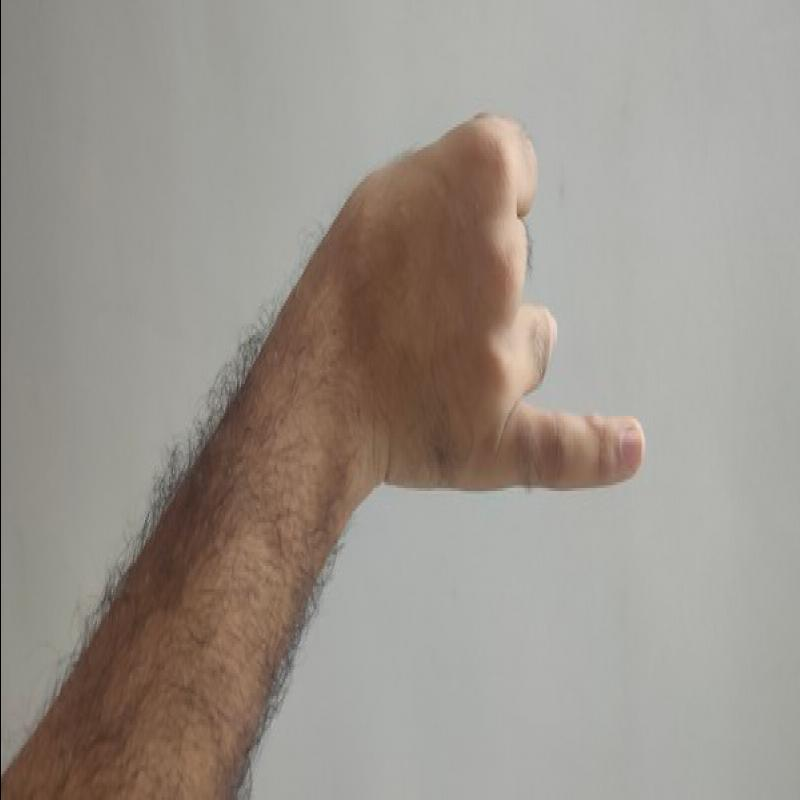Kartharee Mukham: (333, 93, 678, 515)
